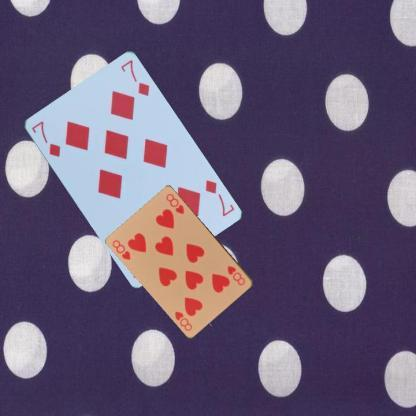7d: (202, 177, 235, 218), (29, 118, 62, 158)
8h: (224, 262, 247, 286), (110, 238, 132, 261)
